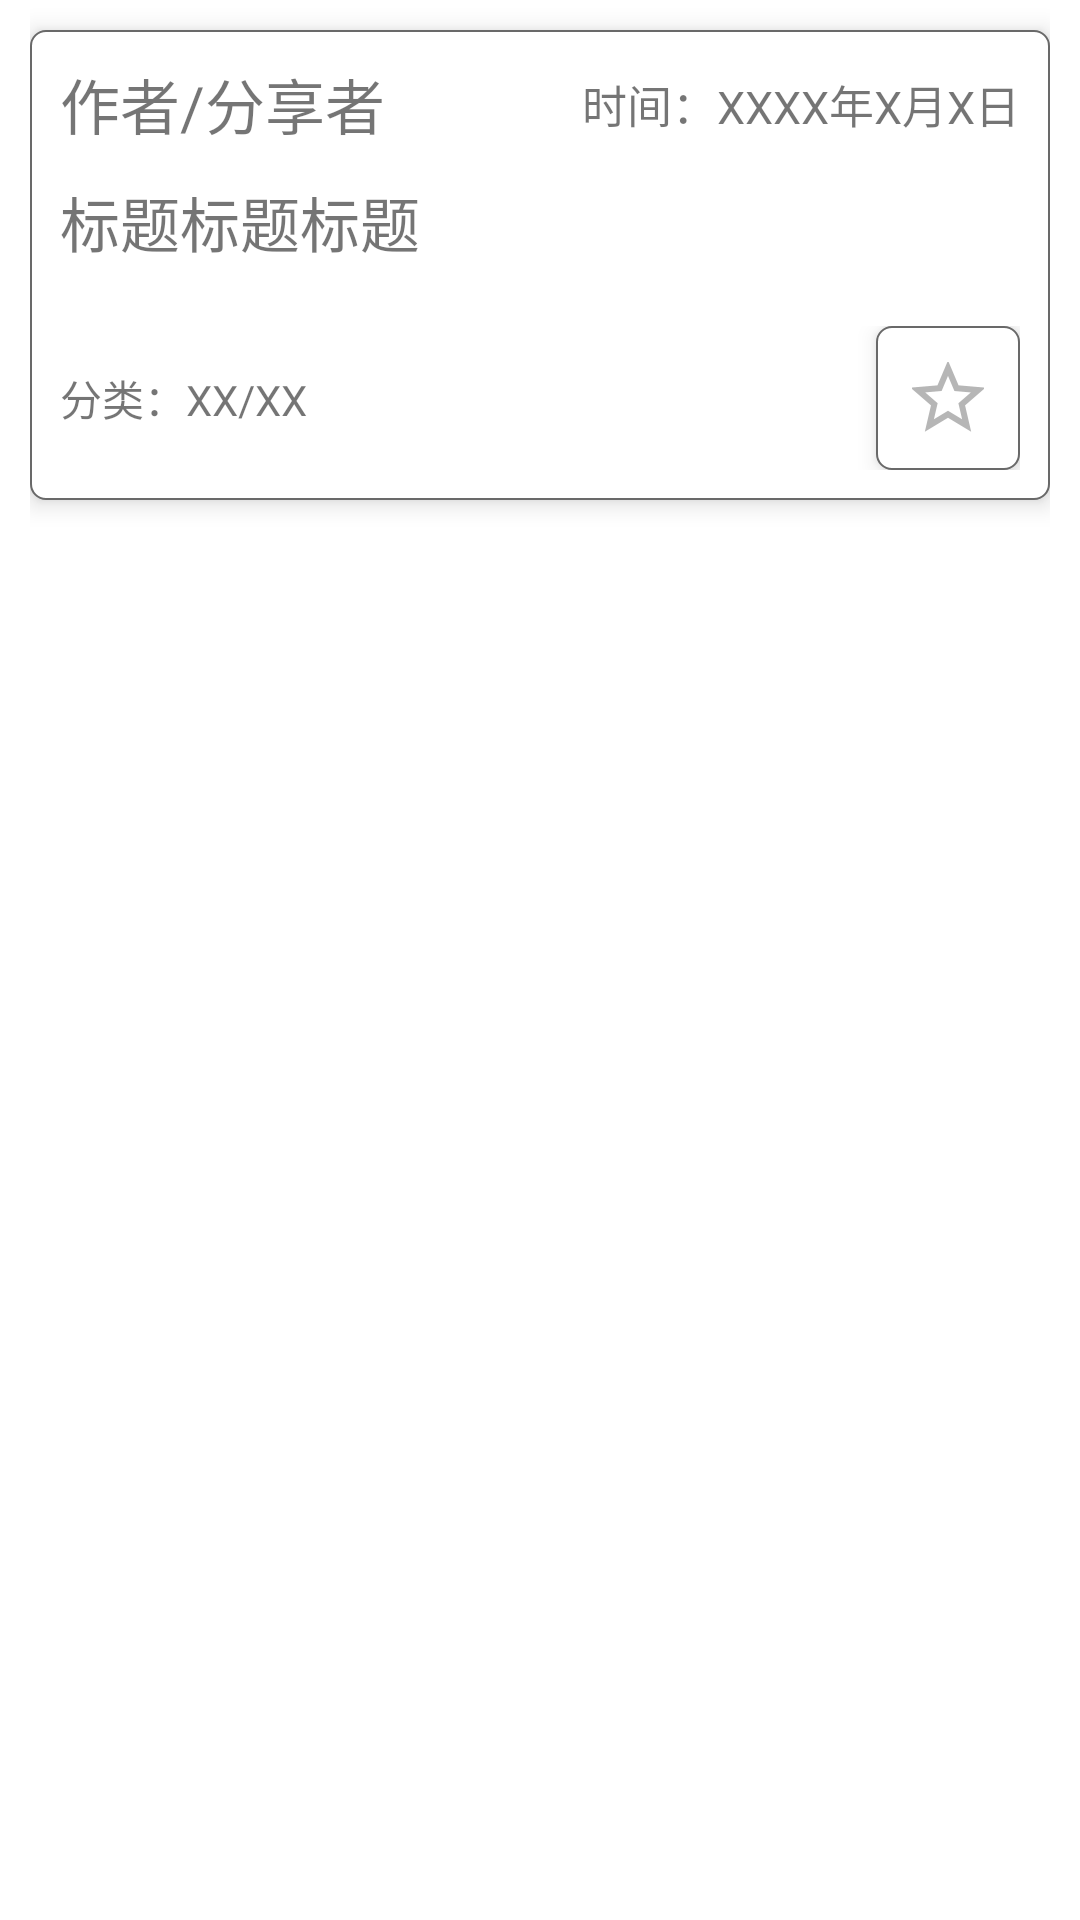

Icons on this 1080px×1920px Android screen, each with the point to tap as point (x, y):
star: point (948, 398)
